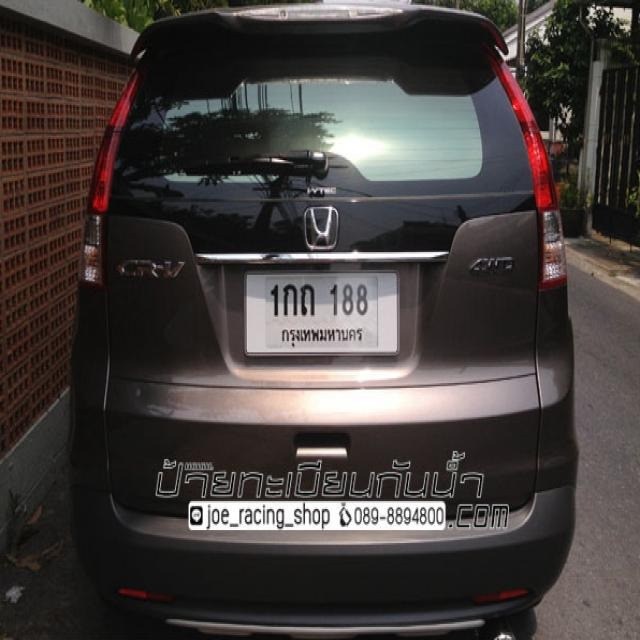license_plate: (243, 264, 404, 363)
